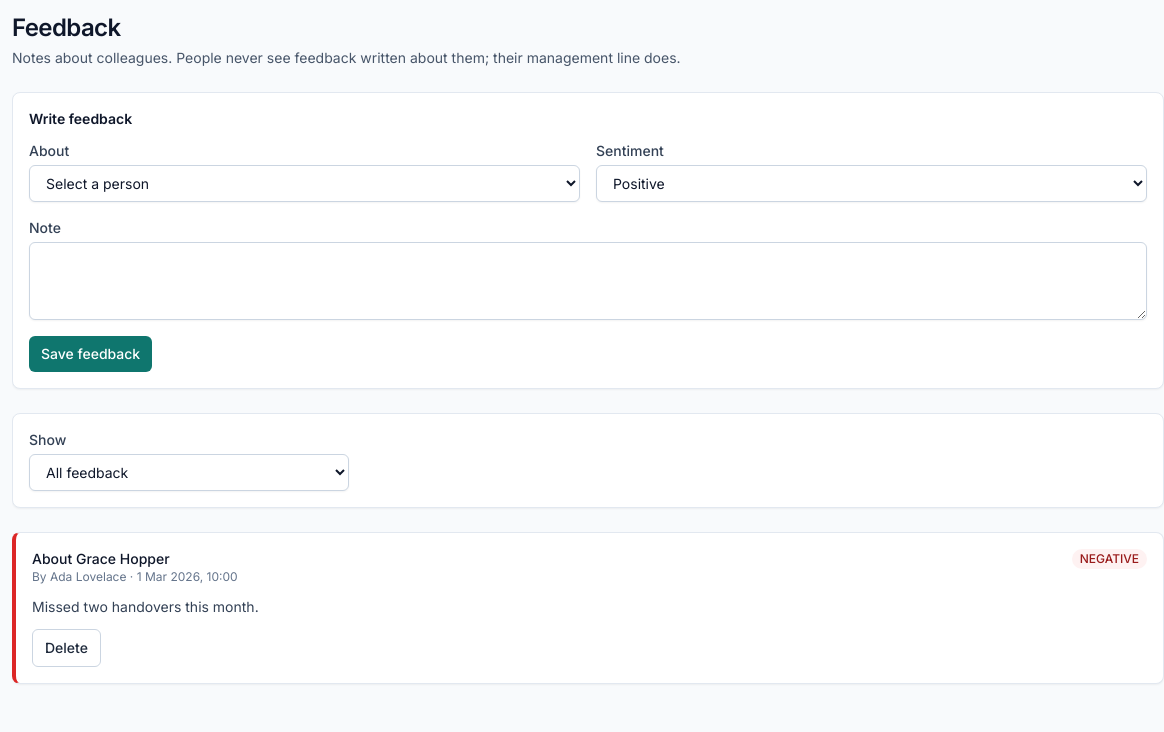
FeedbackPage › requires a person and a note before posting
The image size is (1164, 732).
Click the button "Save feedback".
click(91, 354)  # box [29,336,152,372]
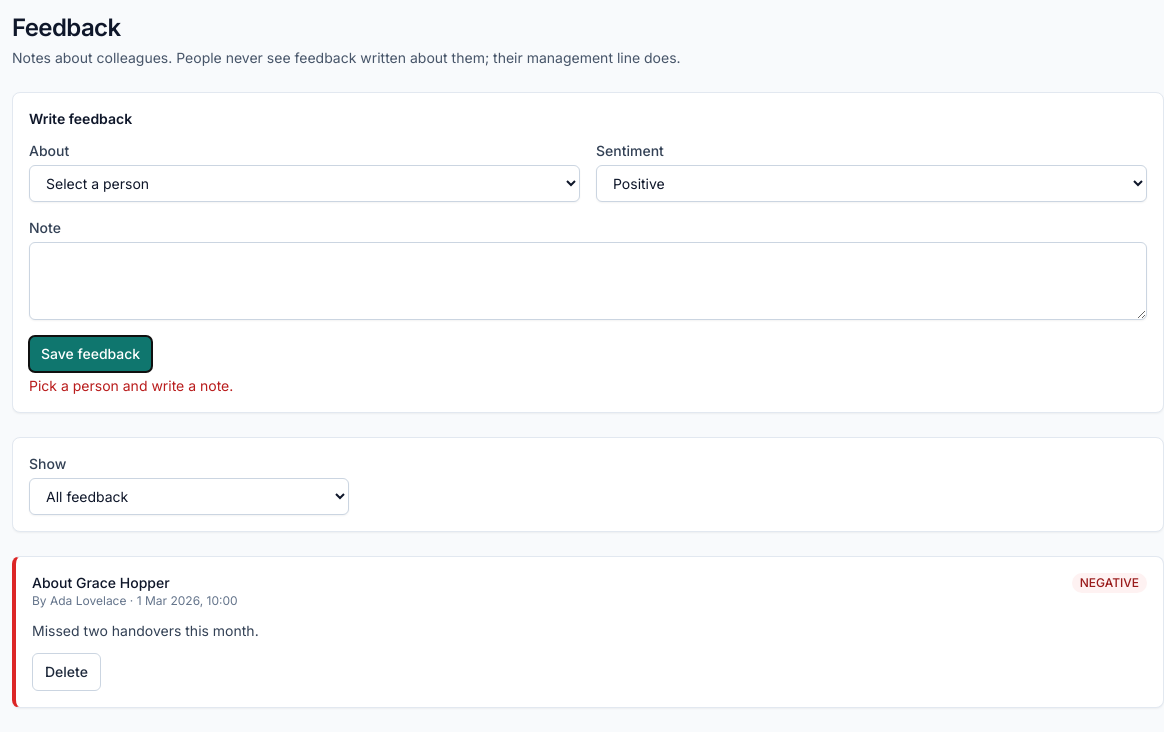
Expected: the text "Pick a person and write a note." is shown, [29,377,233,394]
